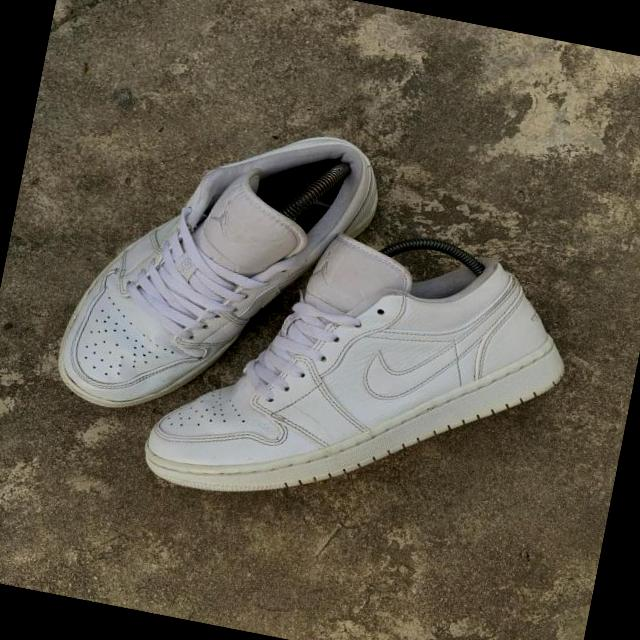nike_original_airforce: (126, 200, 584, 564), (47, 94, 391, 452)
